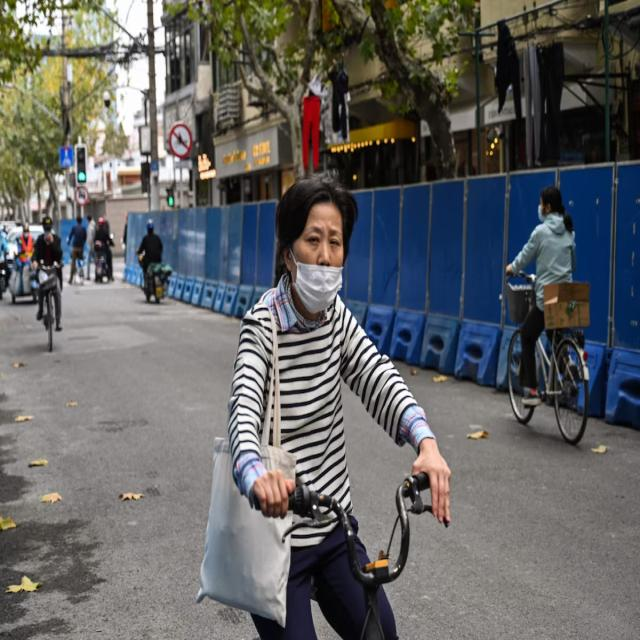Nonhelmet: (271, 166, 360, 317)
